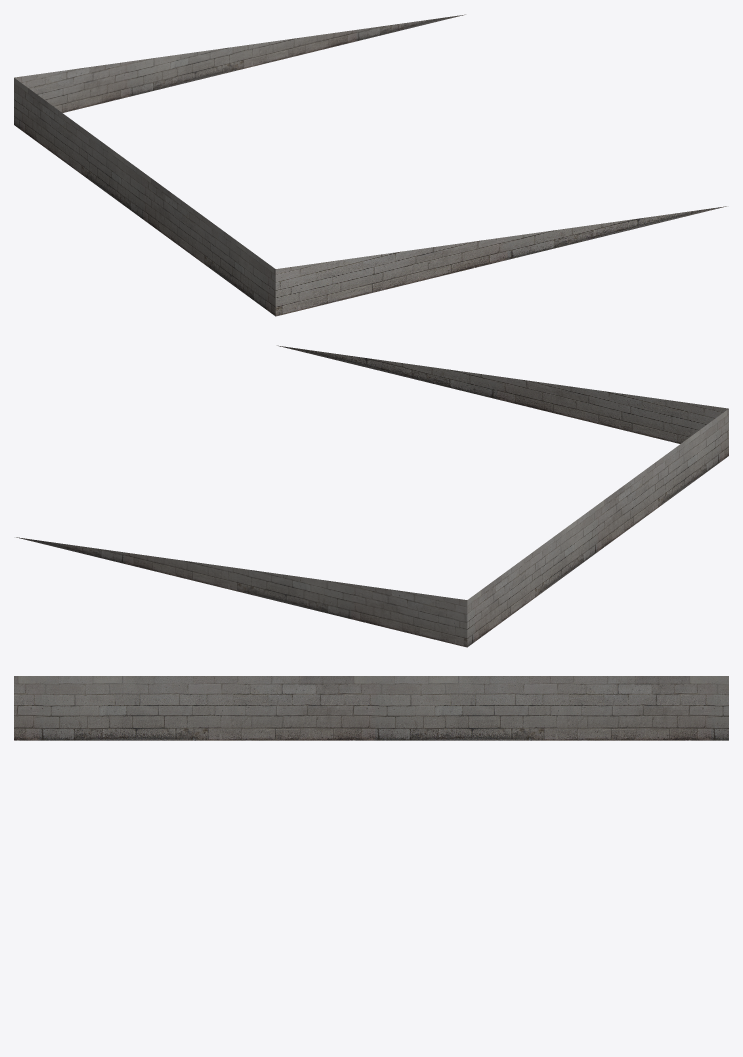
Rendered from Gradient_AngleSideWall_2M.fbx.
The picture shows the model from 3 angles, top to bottom: view 1: azimuth 30°, elevation 25°; view 2: azimuth 150°, elevation 25°; view 3: azimuth 270°, elevation 25°; orthographic projection. The views are drawn at different scales.
Visible parts, largest first — view 1: Gradient_AngleSideWall_2M; view 2: Gradient_AngleSideWall_2M; view 3: Gradient_AngleSideWall_2M.
Part boxes in pixels (box(x1,y1,x2,y2)): Gradient_AngleSideWall_2M: box(14, 14, 726, 316); Gradient_AngleSideWall_2M: box(16, 345, 728, 647); Gradient_AngleSideWall_2M: box(14, 676, 728, 740).
Bounding box in the file's own units: 20 × 2 × 20.
